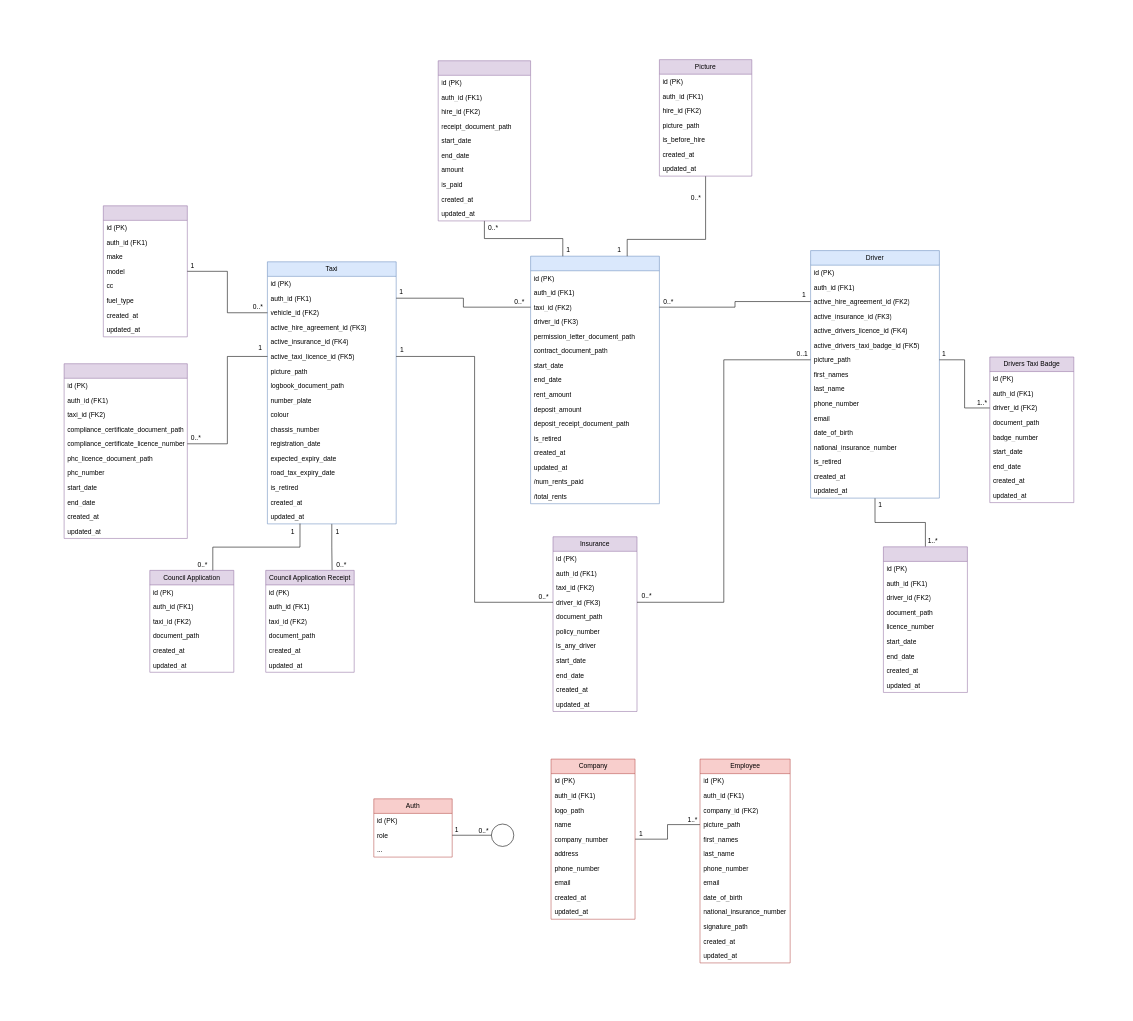
Image size: 1133x1021. Some labels were removed from this diagram. The box of each missing label's shape, as (x1, y1, x2, y2) in pixels:
Drivers Licence: (883, 546, 967, 692)
Hire Agreement: (530, 256, 659, 504)
Rent: (438, 60, 531, 221)
Taxi Licence: (64, 363, 187, 538)
Vehicle: (103, 205, 187, 337)
